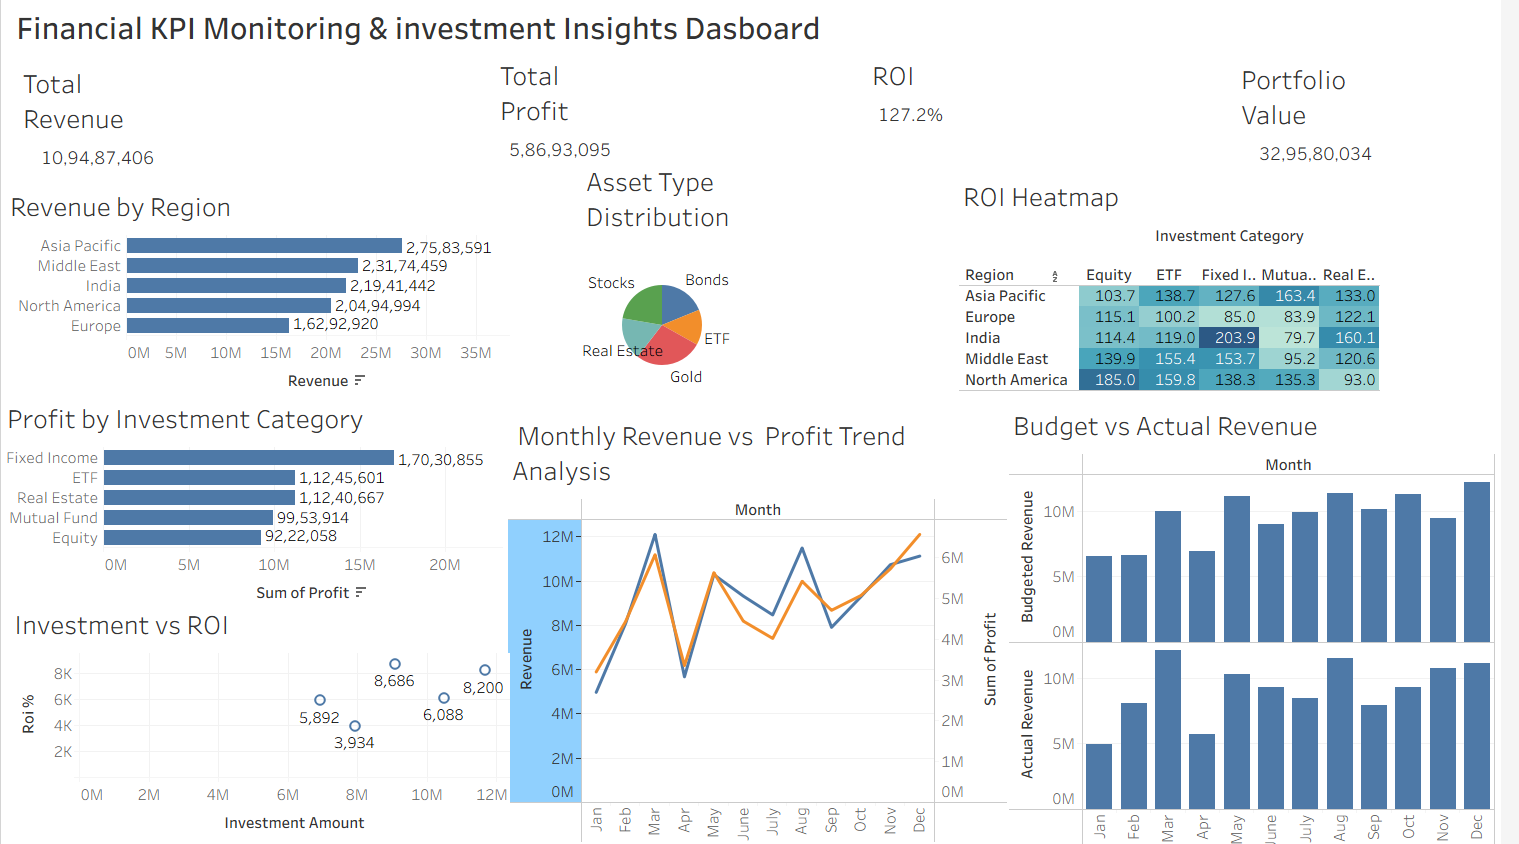

This screenshot's page, from the dashboard's own definition file:
{"tool":"tableau","page":{"name":"Dashboard 1","canvas":[1000,1000],"units":"permille","ordinal":0},"visuals":[{"type":"title","box":[5.3,9.4,989.3,57.5]},{"type":"worksheet","title":"Total Profit","mark":"Automatic","box":[330,70.4,145.3,140.8]},{"type":"worksheet","title":"ROI","mark":"Automatic","box":[578,70.4,156,109.2]},{"type":"worksheet","title":"Portfolio Value","mark":"Automatic","box":[824,75.1,168.7,158.5]},{"type":"worksheet","title":"Total Revenue","mark":"Automatic","box":[12,79.8,190,158.5]},{"type":"worksheet","title":"Asset Type Distribution","mark":"Pie","box":[387.3,194.8,220,298.1]},{"type":"worksheet","title":"ROI Heatmap","mark":"Square","rows":["Region"],"cols":["Investment Category"],"box":[638.7,212.4,354.7,267.6]},{"type":"worksheet","title":"Revenue by Region","mark":"Bar","rows":["Region"],"cols":["Revenue"],"box":[3.3,224.2,336,266.4]},{"type":"worksheet","title":"Profit by Investment Category","mark":"Bar","rows":["Investment Category"],"cols":["Profit"],"box":[1.3,473,333.3,268.8]},{"type":"worksheet","title":"Budget vs Actual Revenue","mark":"Bar","rows":["Budgeted Revenue","Actual Revenue"],"cols":["Month"],"box":[672,481.2,324,523.5]},{"type":"worksheet","title":" Monthly Revenue vs  Profit Trend Analysis","mark":"Line","rows":["Revenue","Profit"],"cols":["Month"],"box":[338,493,333.3,503.5]},{"type":"worksheet","title":"Investment vs ROI","mark":"Automatic","rows":["ROI %"],"cols":["Investment Amount"],"box":[6,714.8,333.3,278.2]}]}

Visuals, with their boxes on the dashboard's canvas, which has no fixed pixel size, in thousandths of its width and height (x1, y1, x2, y2). These are canvas units, not pixel positions in the 1519x844 screenshot, which may show the page scaled, cropped or inside an application window:
title: x1=5, y1=9, x2=995, y2=67
"Total Profit" worksheet: x1=330, y1=70, x2=475, y2=211
"ROI" worksheet: x1=578, y1=70, x2=734, y2=180
"Portfolio Value" worksheet: x1=824, y1=75, x2=993, y2=234
"Total Revenue" worksheet: x1=12, y1=80, x2=202, y2=238
"Asset Type Distribution" worksheet (Pie marks): x1=387, y1=195, x2=607, y2=493
"ROI Heatmap" worksheet (Square marks): x1=639, y1=212, x2=993, y2=480
"Revenue by Region" worksheet (Bar marks): x1=3, y1=224, x2=339, y2=491
"Profit by Investment Category" worksheet (Bar marks): x1=1, y1=473, x2=335, y2=742
"Budget vs Actual Revenue" worksheet (Bar marks): x1=672, y1=481, x2=996, y2=1005
" Monthly Revenue vs  Profit Trend Analysis" worksheet (Line marks): x1=338, y1=493, x2=671, y2=996
"Investment vs ROI" worksheet: x1=6, y1=715, x2=339, y2=993
